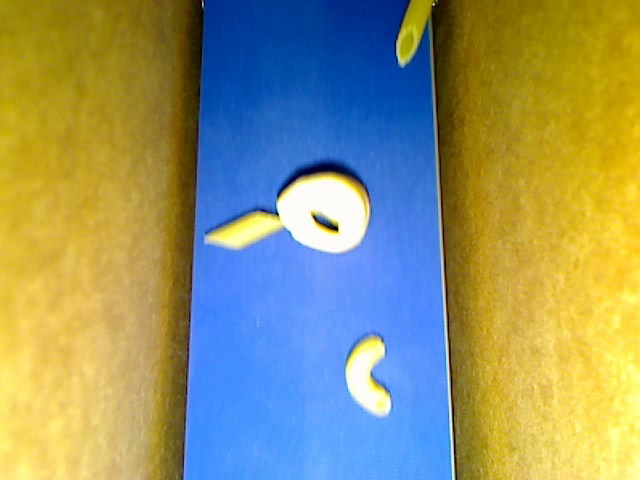elbow: (345, 333, 392, 417)
penne: (203, 212, 284, 249), (396, 1, 433, 69)
tortellini: (276, 171, 369, 254)
